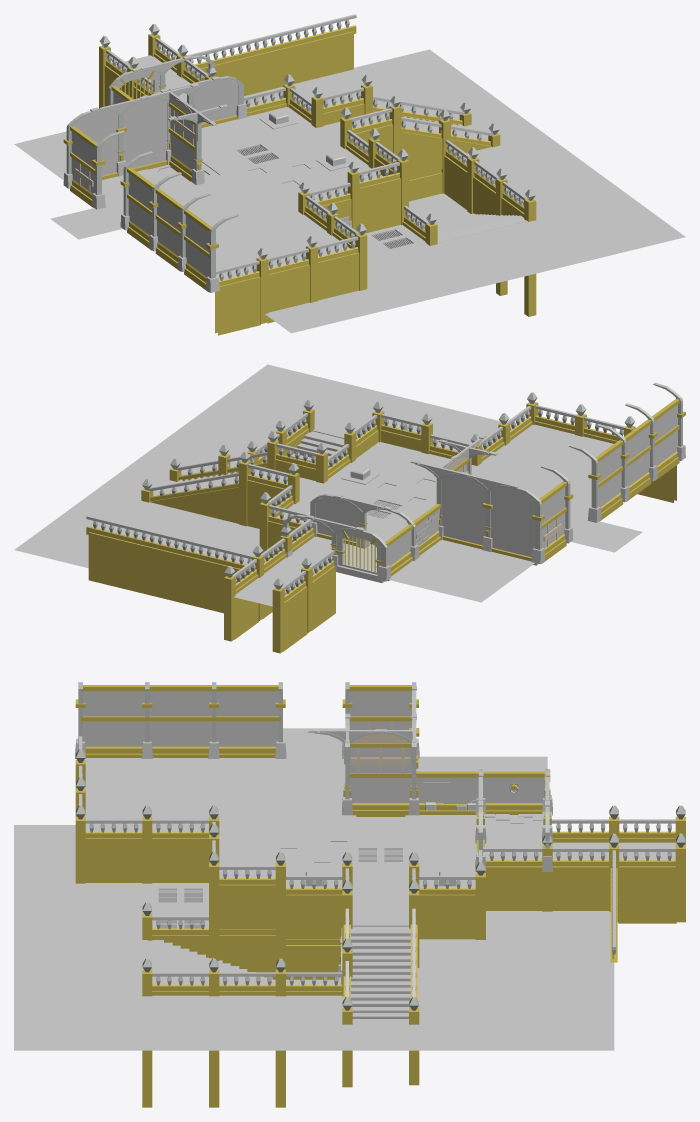
Rendered from dungeon-levelkit-demo.fbx.
3 renders of one model, top to bottom at view 1: azimuth 30°, elevation 25°; view 2: azimuth 150°, elevation 25°; view 3: azimuth 270°, elevation 25°, orthographic. The views are drawn at different scales.
Visible parts, largest first — view 1: Plane_075_Stone1_0, Plane_075_Stone2_0, Plane_075_Stone3_0, Plane_075_Wood_0; view 2: Plane_075_Stone1_0, Plane_075_Stone2_0, Plane_075_Stone3_0; view 3: Plane_075_Stone1_0, Plane_075_Stone2_0, Plane_075_Stone3_0, Plane_075_Wood_0.
Part boxes in pixels (bbox=[...]): Plane_075_Stone1_0: bbox=[14, 14, 685, 333]; Plane_075_Stone2_0: bbox=[63, 25, 536, 335]; Plane_075_Stone3_0: bbox=[66, 20, 535, 280]; Plane_075_Wood_0: bbox=[75, 101, 194, 192]; Plane_075_Stone1_0: bbox=[14, 364, 685, 606]; Plane_075_Stone2_0: bbox=[86, 399, 685, 653]; Plane_075_Stone3_0: bbox=[93, 382, 682, 595]; Plane_075_Stone1_0: bbox=[14, 685, 677, 1050]; Plane_075_Stone2_0: bbox=[75, 685, 685, 1107]; Plane_075_Stone3_0: bbox=[76, 682, 685, 1010]; Plane_075_Wood_0: bbox=[350, 721, 411, 773].
Size of the model in its own units: 1681 by 653 by 1694.
